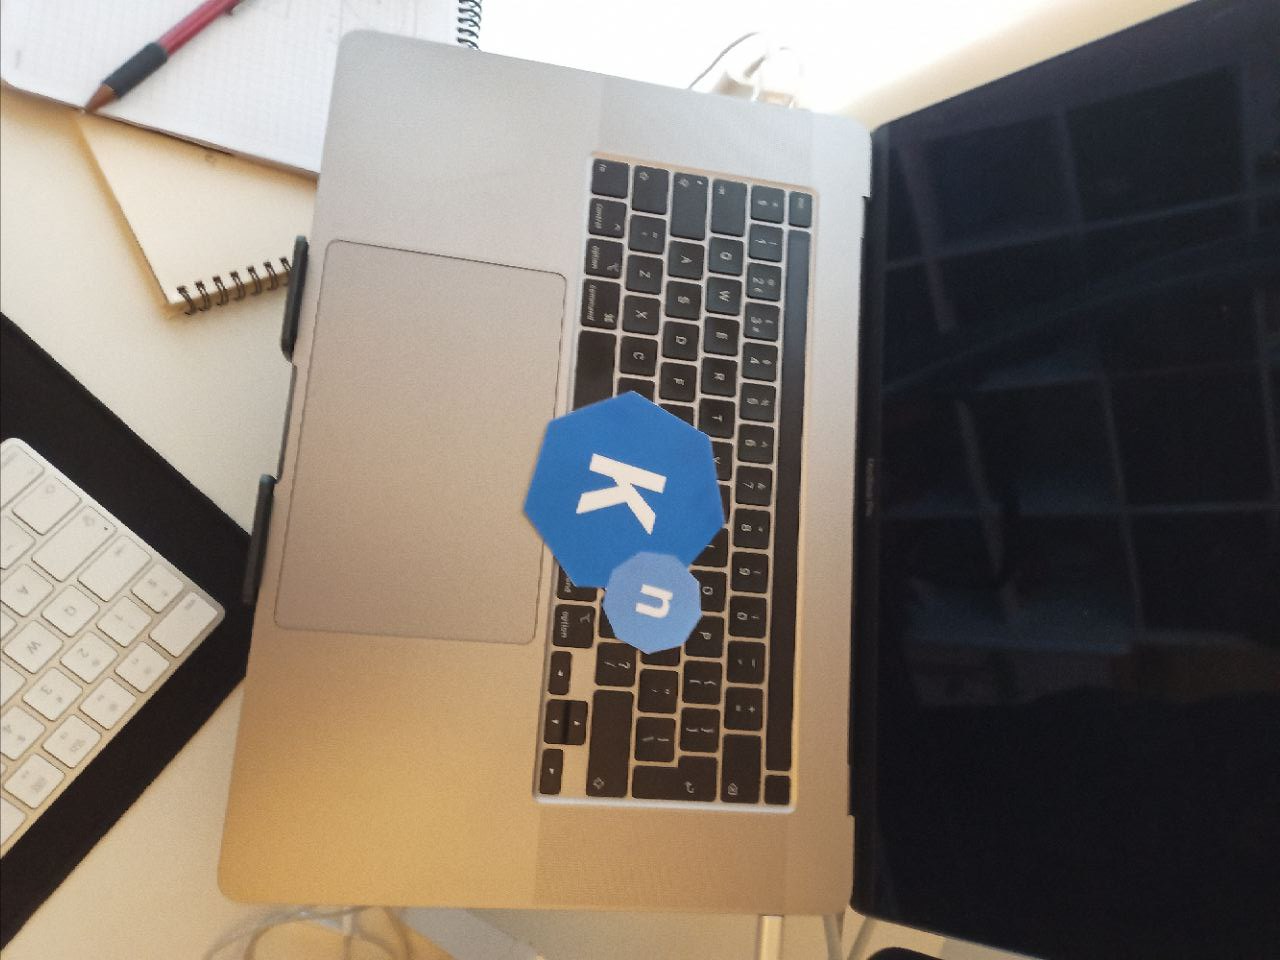knative: (520, 390, 726, 656)
